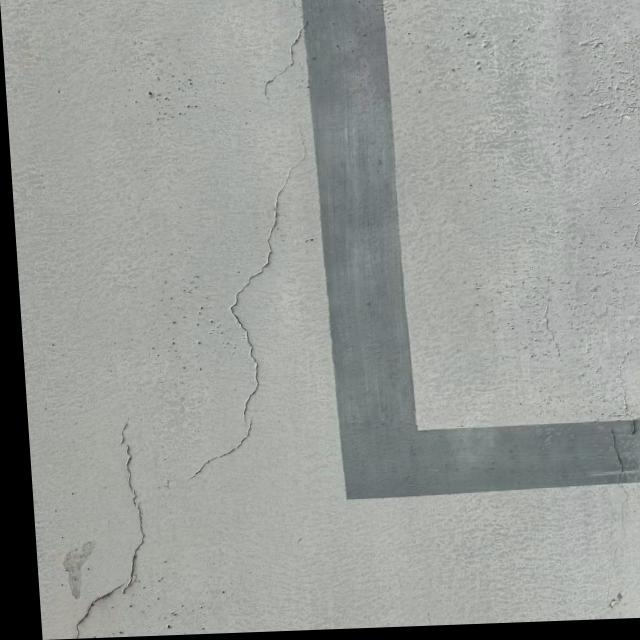crack: (172, 107, 318, 489), (65, 406, 159, 632), (254, 13, 315, 120)
